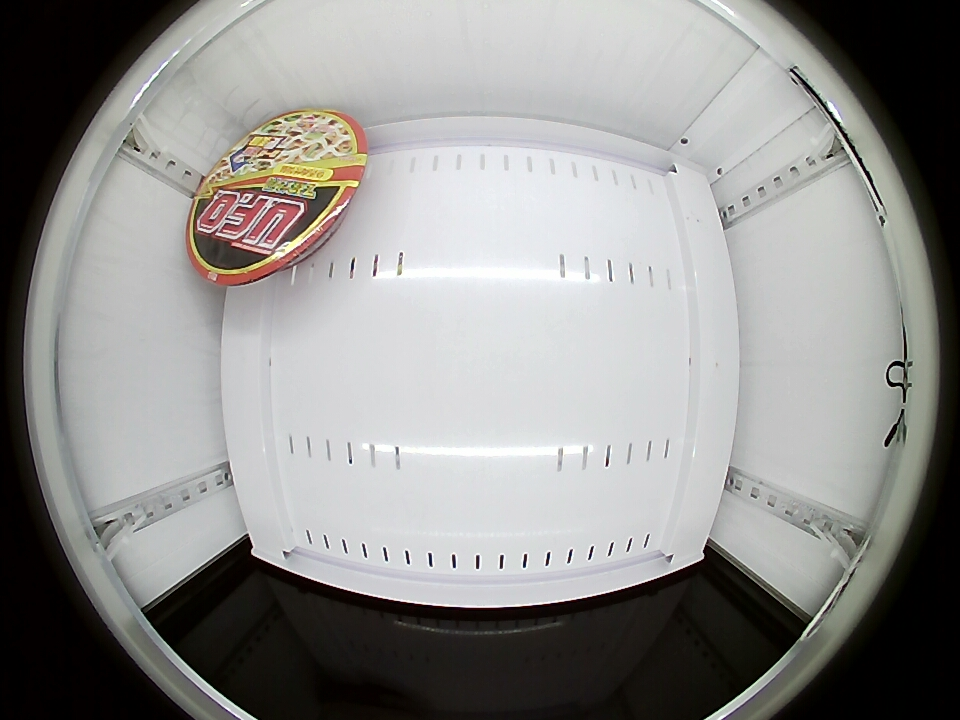ufo2: (187, 108, 367, 285)
